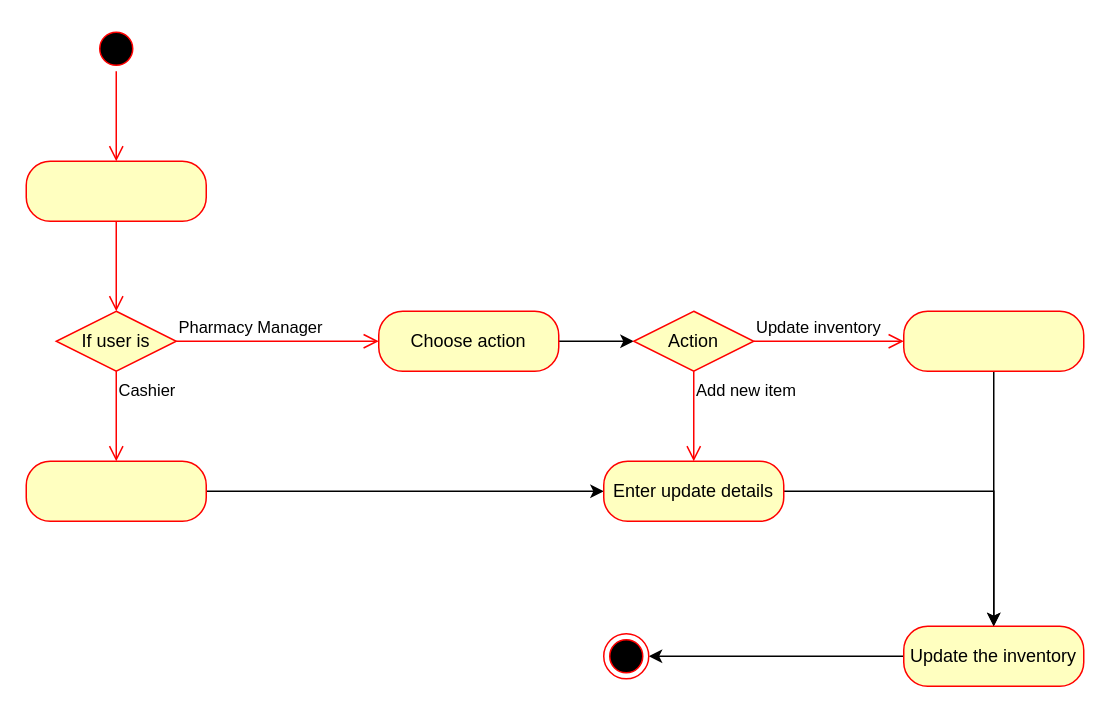
Some shapes in this 1110 by 713 pixel diagram are drawn without their labels. The shapes that lost their labels are listed below. From the top down, each one's centre as x and y in pixels, then its label:
pixel 115 190: User Login
pixel 993 340: Prompt for details
pixel 115 490: Process sale details
